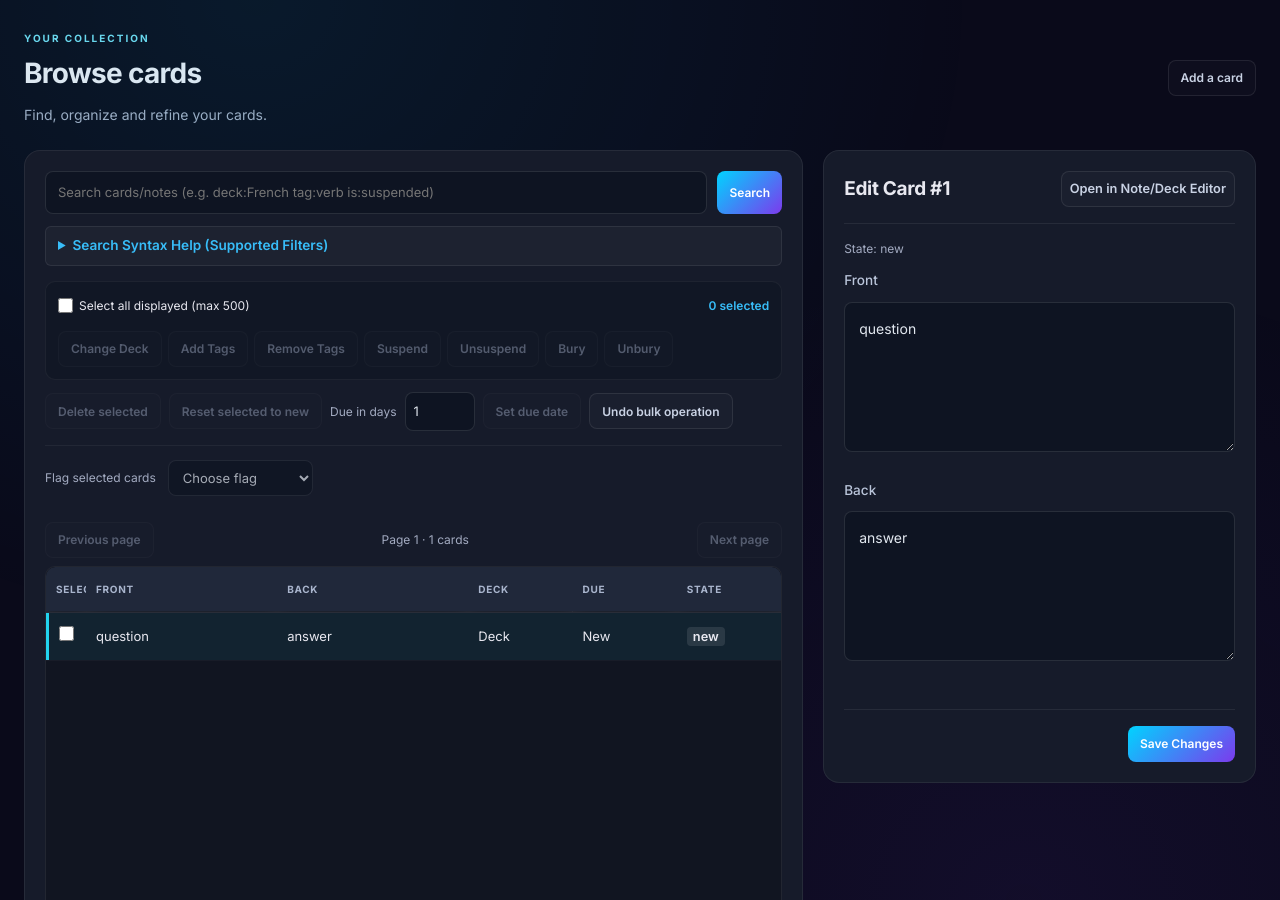
Test case: Browser safety › moves selected cards to an explicitly chosen deck and refreshes the applied query
Click the checkbox named "Select card 1" at (66, 634), box [58, 626, 74, 641]
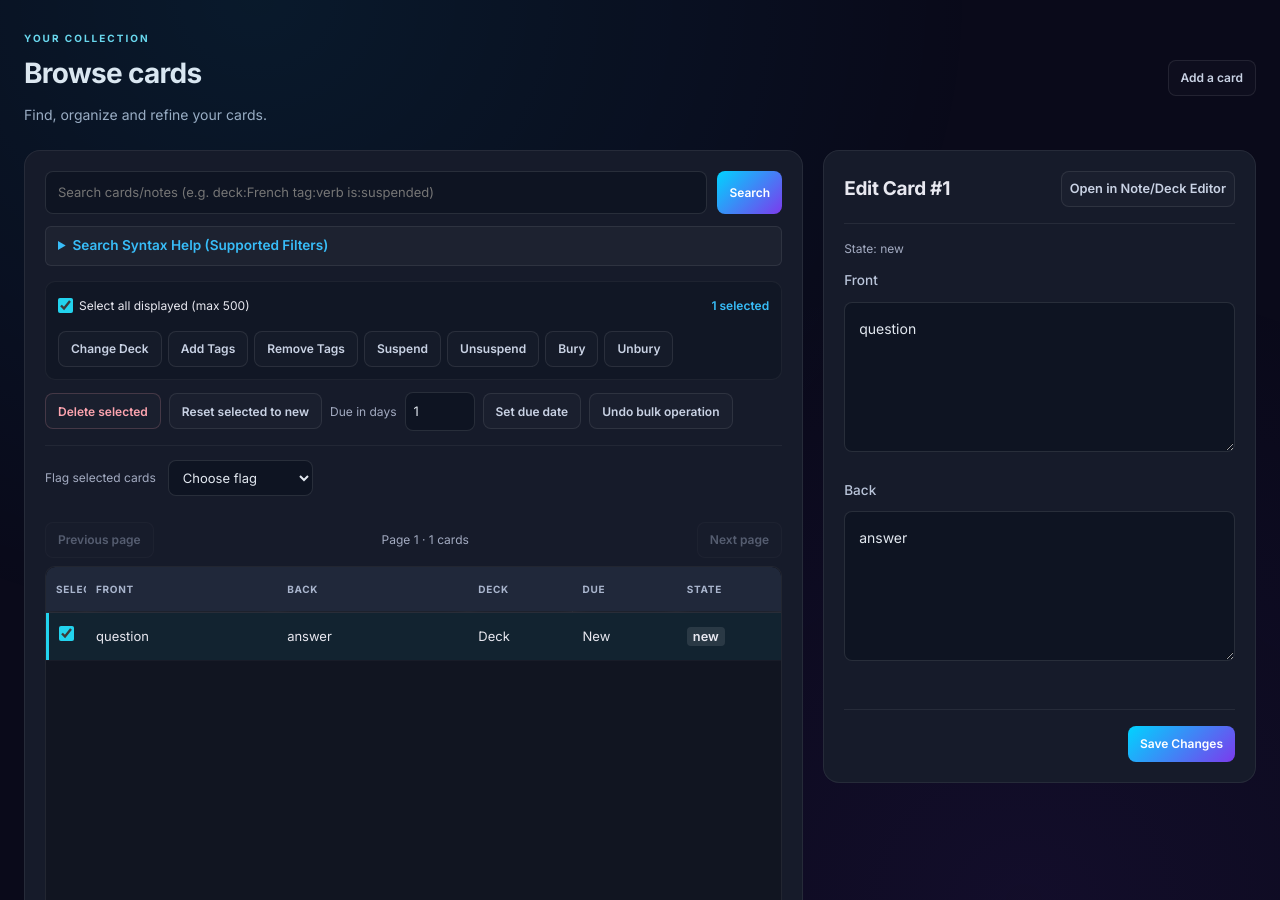
Click the button "Change Deck" at (110, 349), box [58, 331, 162, 367]
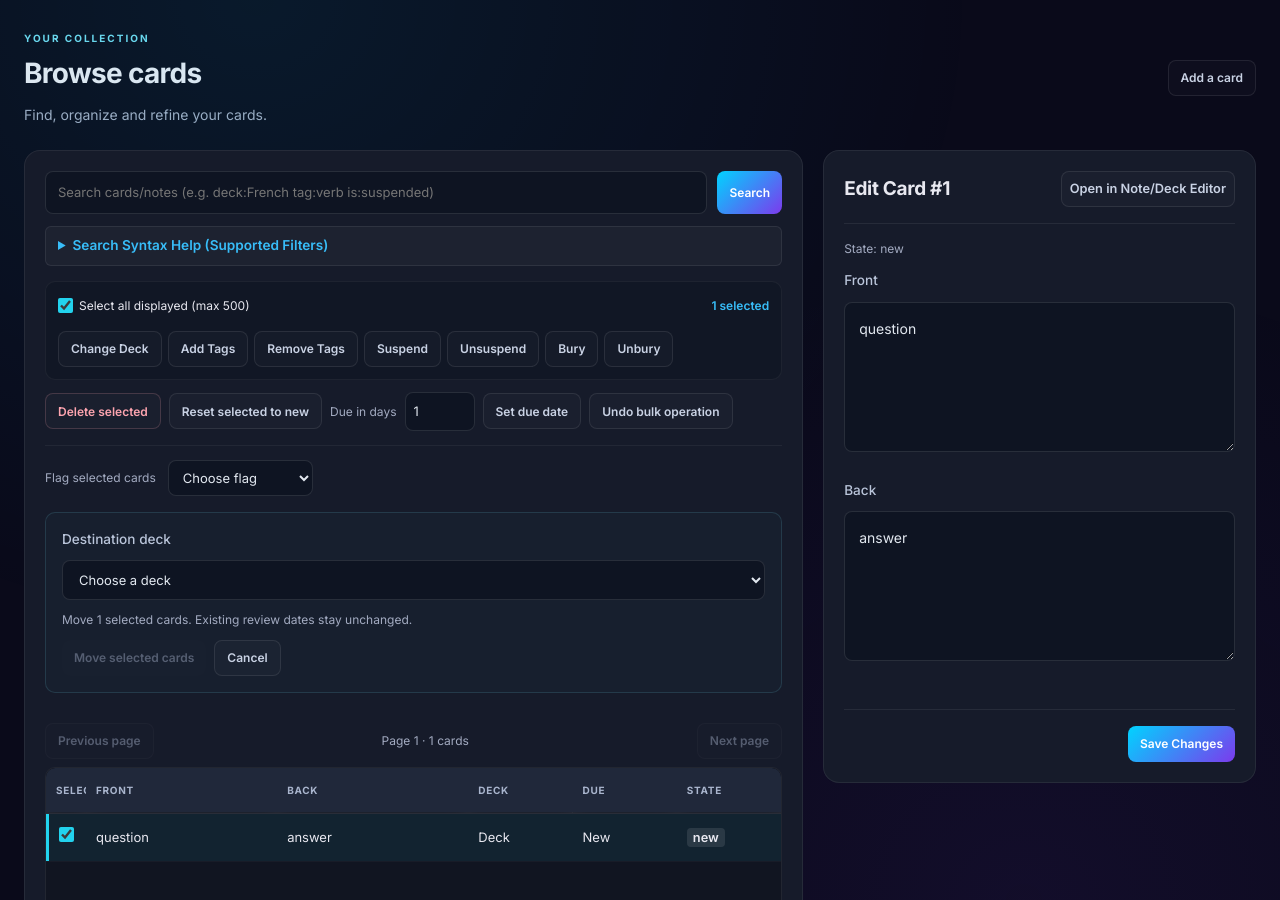
Check: the dropdown labelled "Destination deck" is shown
Check: the button "Move selected cards" is disabled, box [62, 640, 206, 676]
Select "Destination" in the dropdown labelled "Destination deck" at (414, 580), box [62, 560, 765, 600]
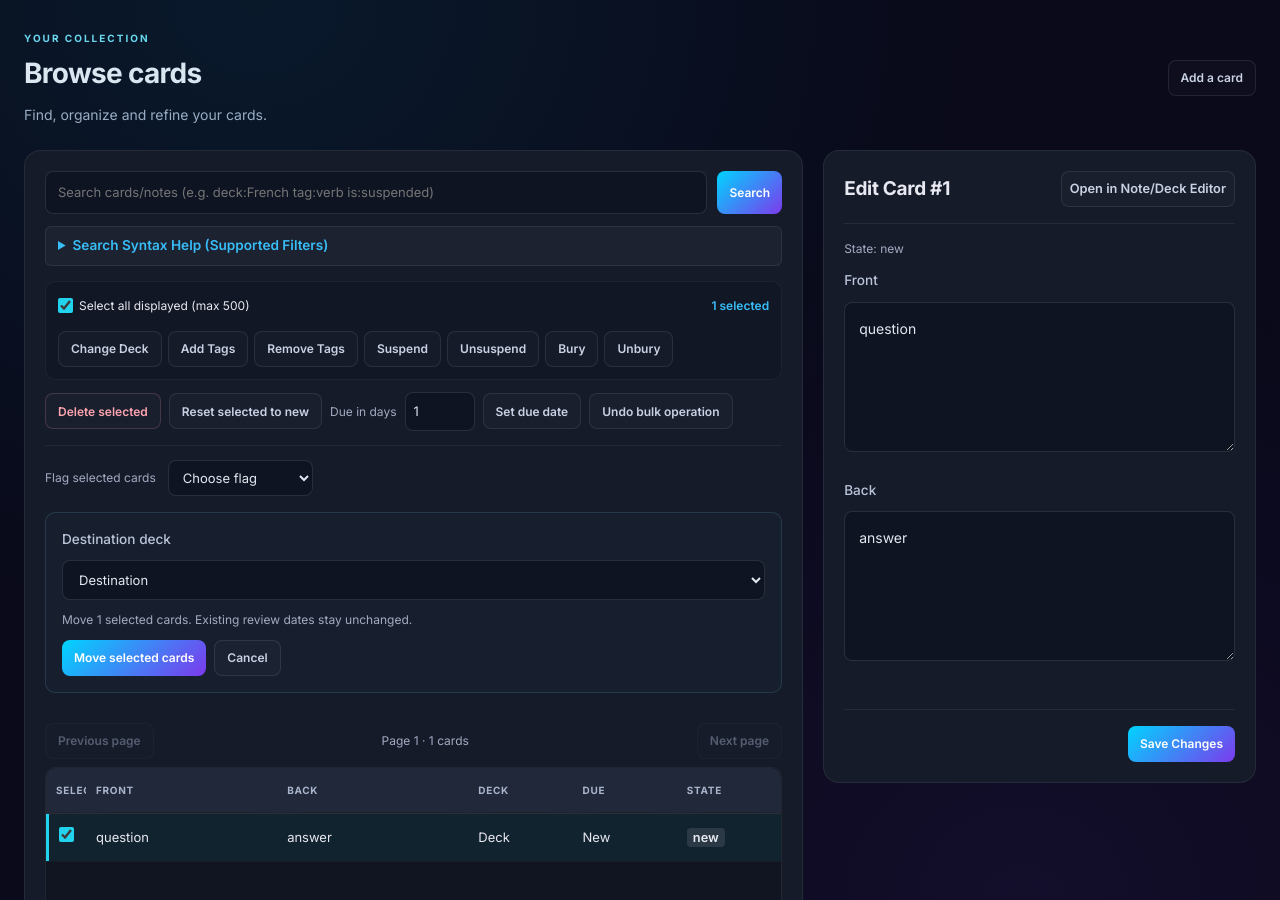
Type "unsubmitted draft" into the field named "Search cards query" at (376, 193), box [45, 171, 707, 214]
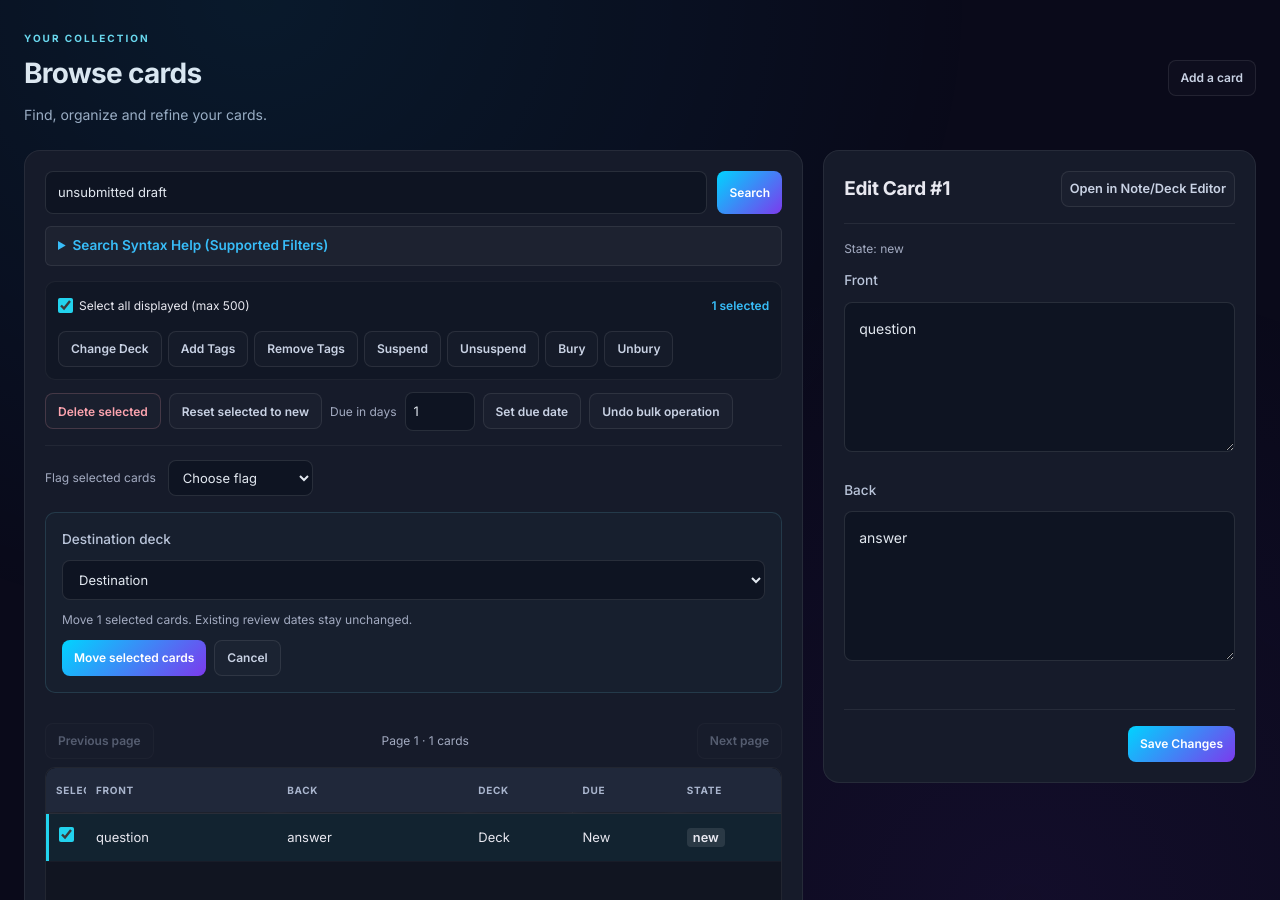
Click the button "Move selected cards" at (134, 658), box [62, 640, 206, 676]
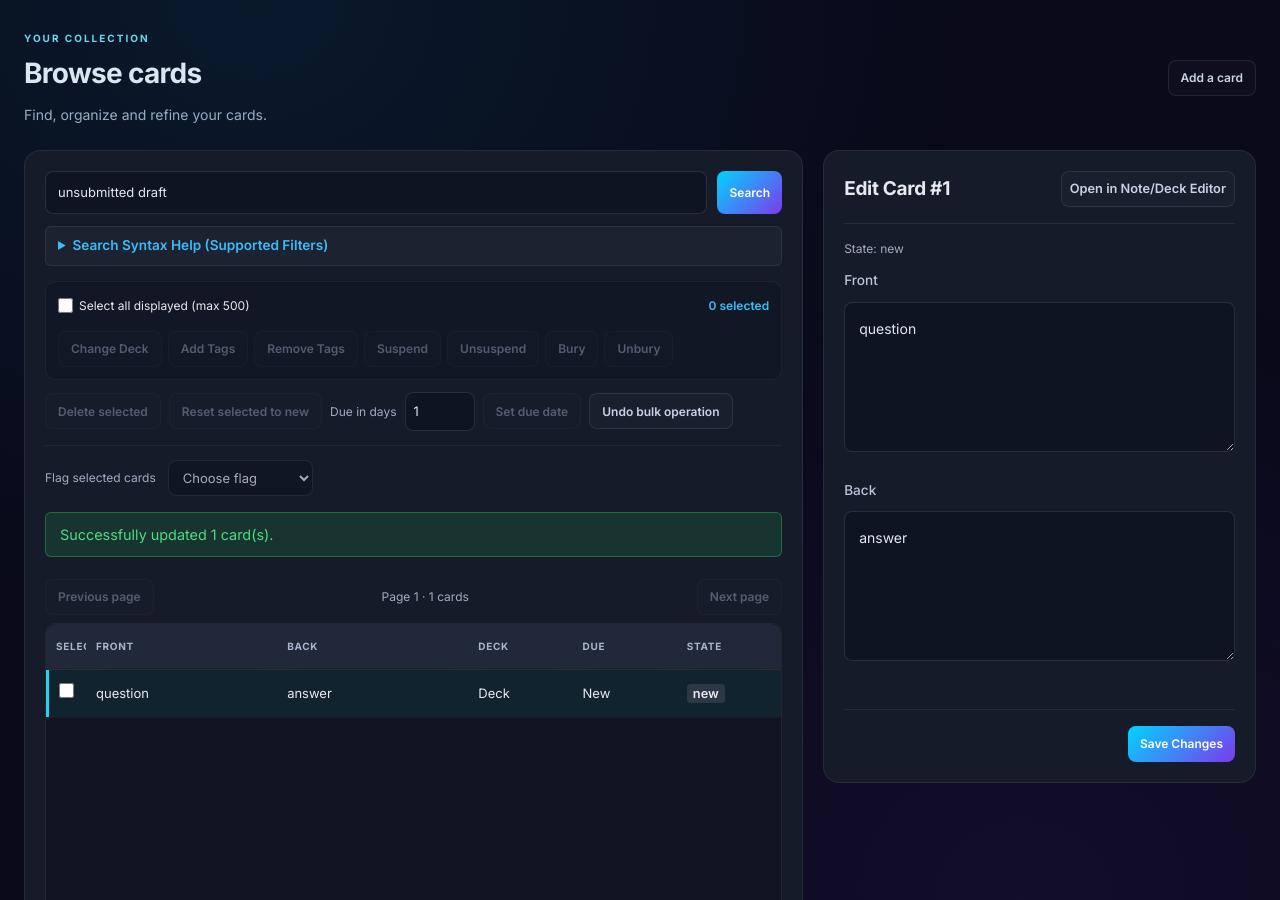
Check: the message "Successfully updated 1 card(s)." is shown, box [45, 512, 782, 557]
Check: the label labelled "Destination deck" is gone
